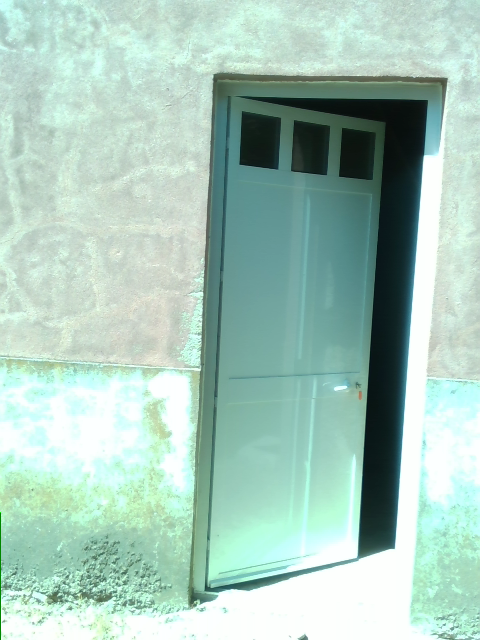semi: (189, 76, 445, 607)
